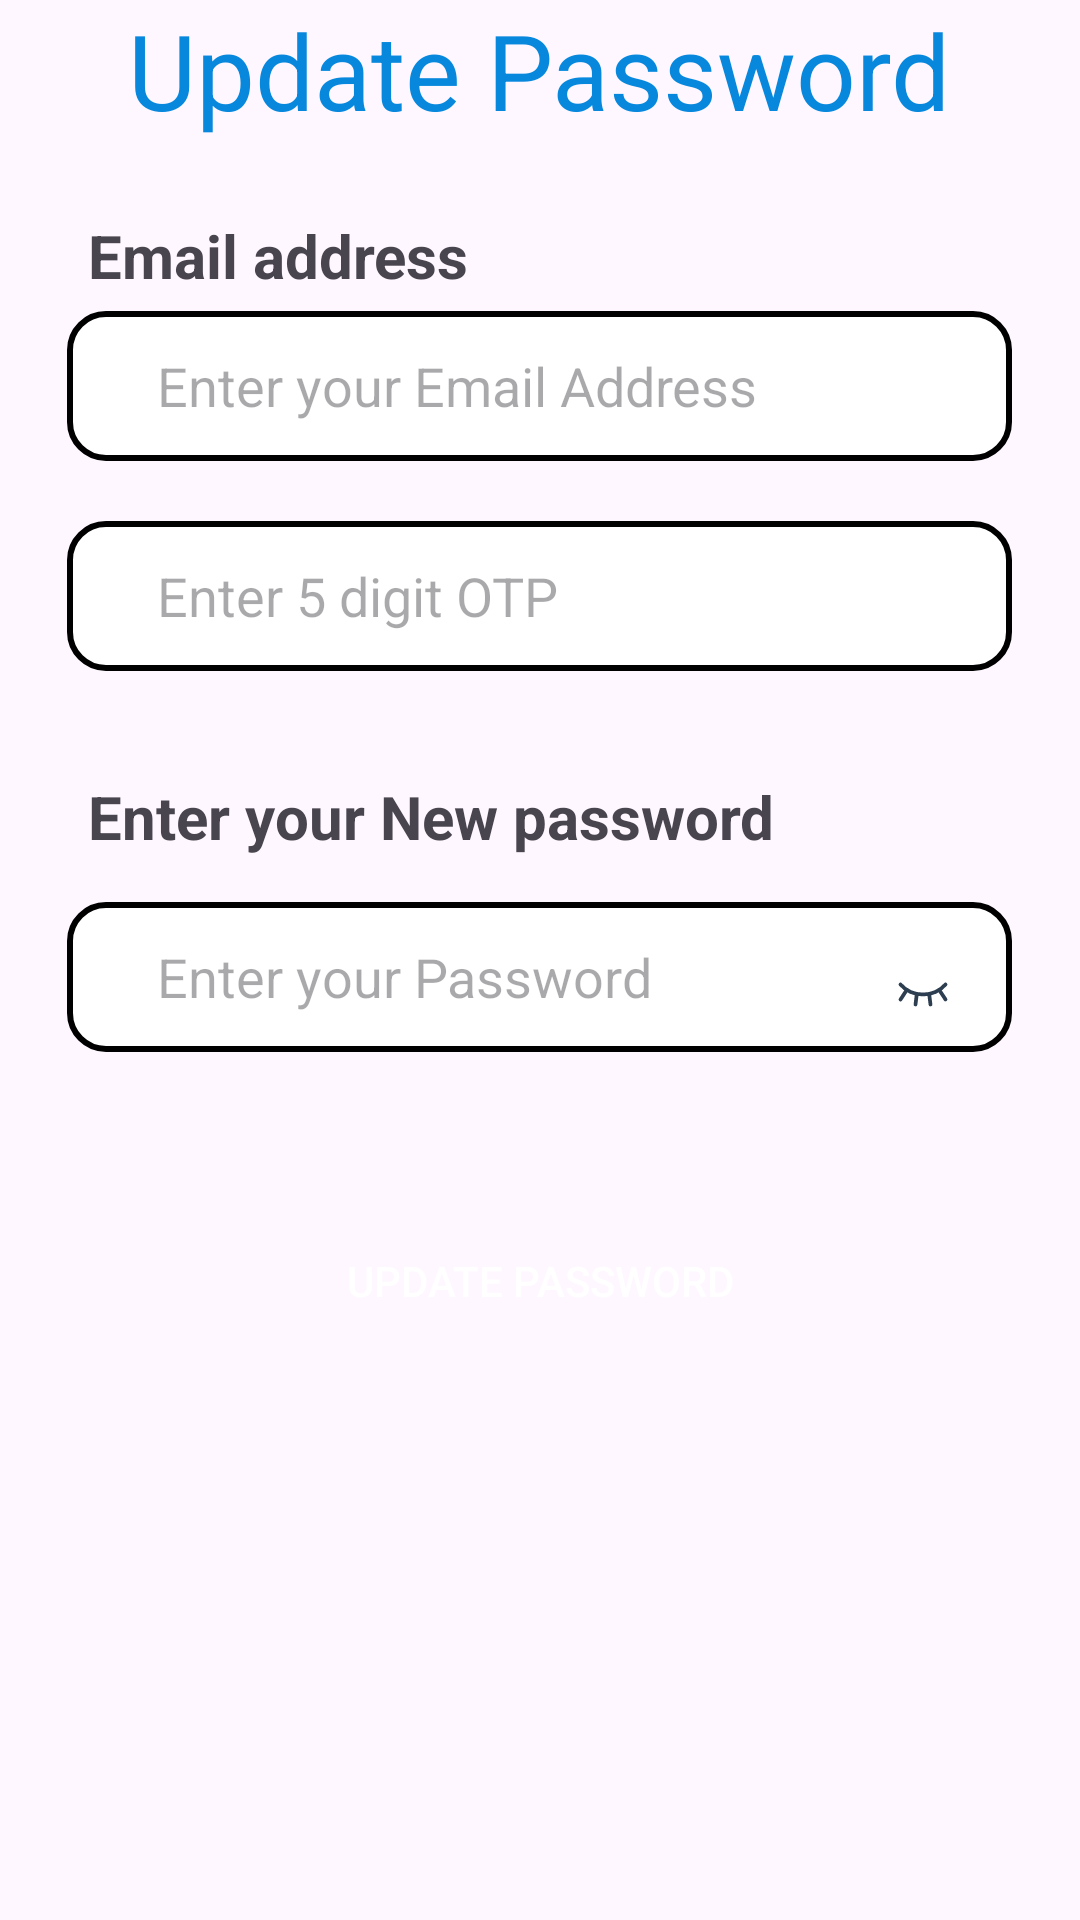

Icons on this 1080 x 1920 Android screen, each with its box as (x1, y1, x2, y2):
eye toggle: (898, 982, 948, 1007)
